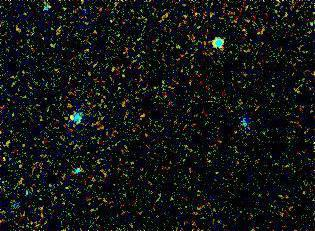star: (58, 102, 88, 132)
